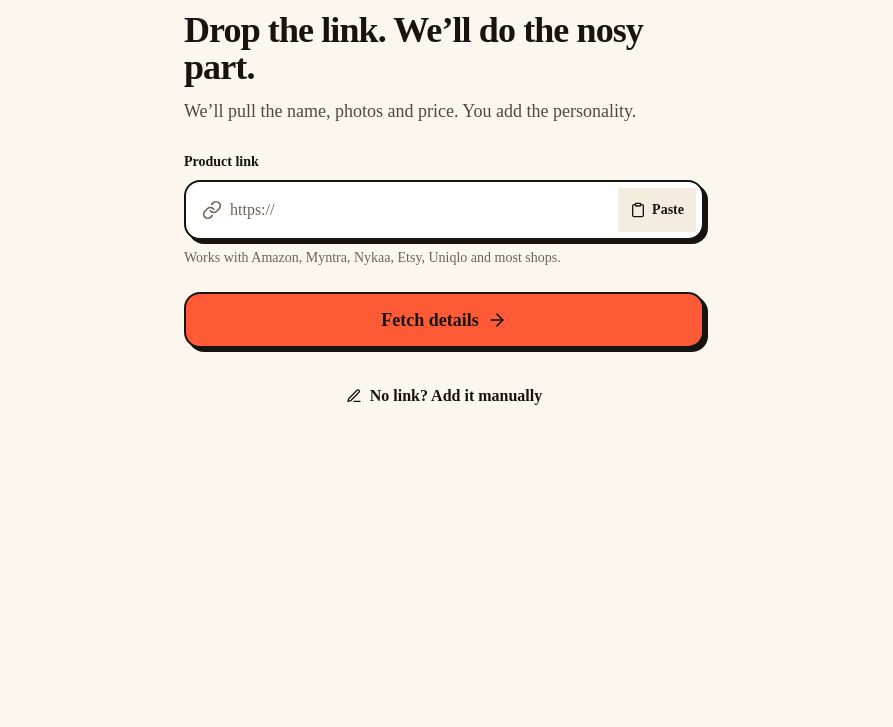
initial URL entry › goes to deliberate manual entry with the URL prefilled and no failure banner
Type "https://shop.example/product/lamp" into the field labelled "Product link" at point(420, 210), box [230,182,610,238]
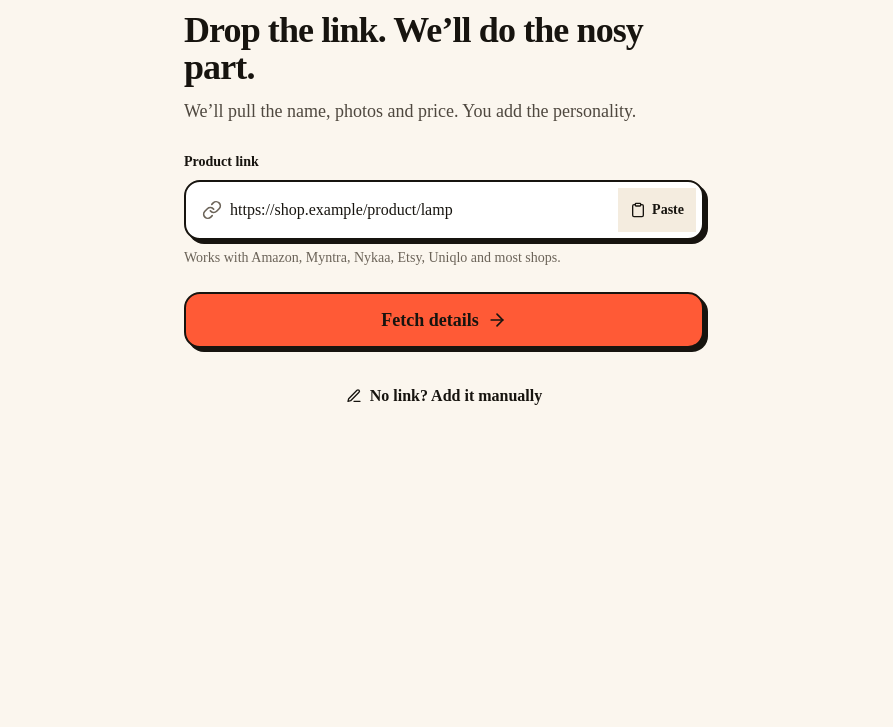
Click the button "No link? Add it manually" at point(444, 396), box [184,372,704,420]
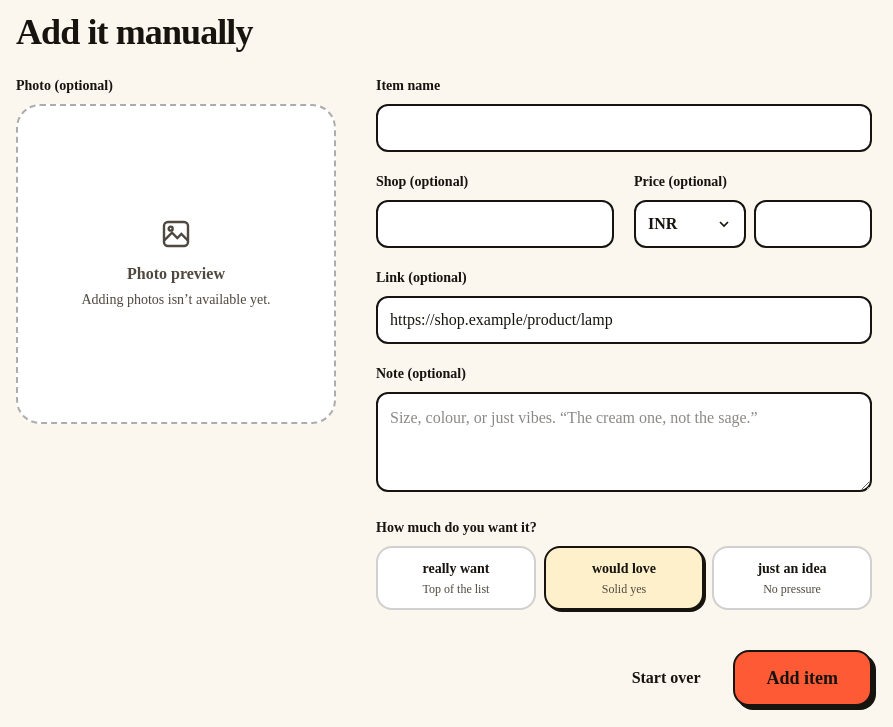
Check: the heading "Add it manually" is shown, box [16,12,253,52]
Check: the field labelled "Link (optional)" holds "https://shop.example/product/lamp", box [376,296,872,344]
